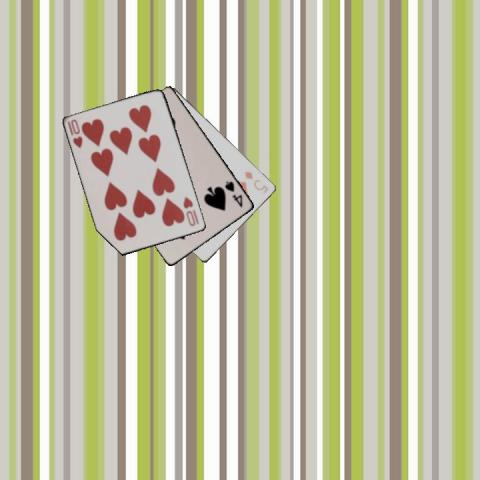10h: (180, 194, 200, 228), (65, 117, 84, 149)
4s: (222, 178, 244, 209)
5d: (242, 168, 270, 195)
